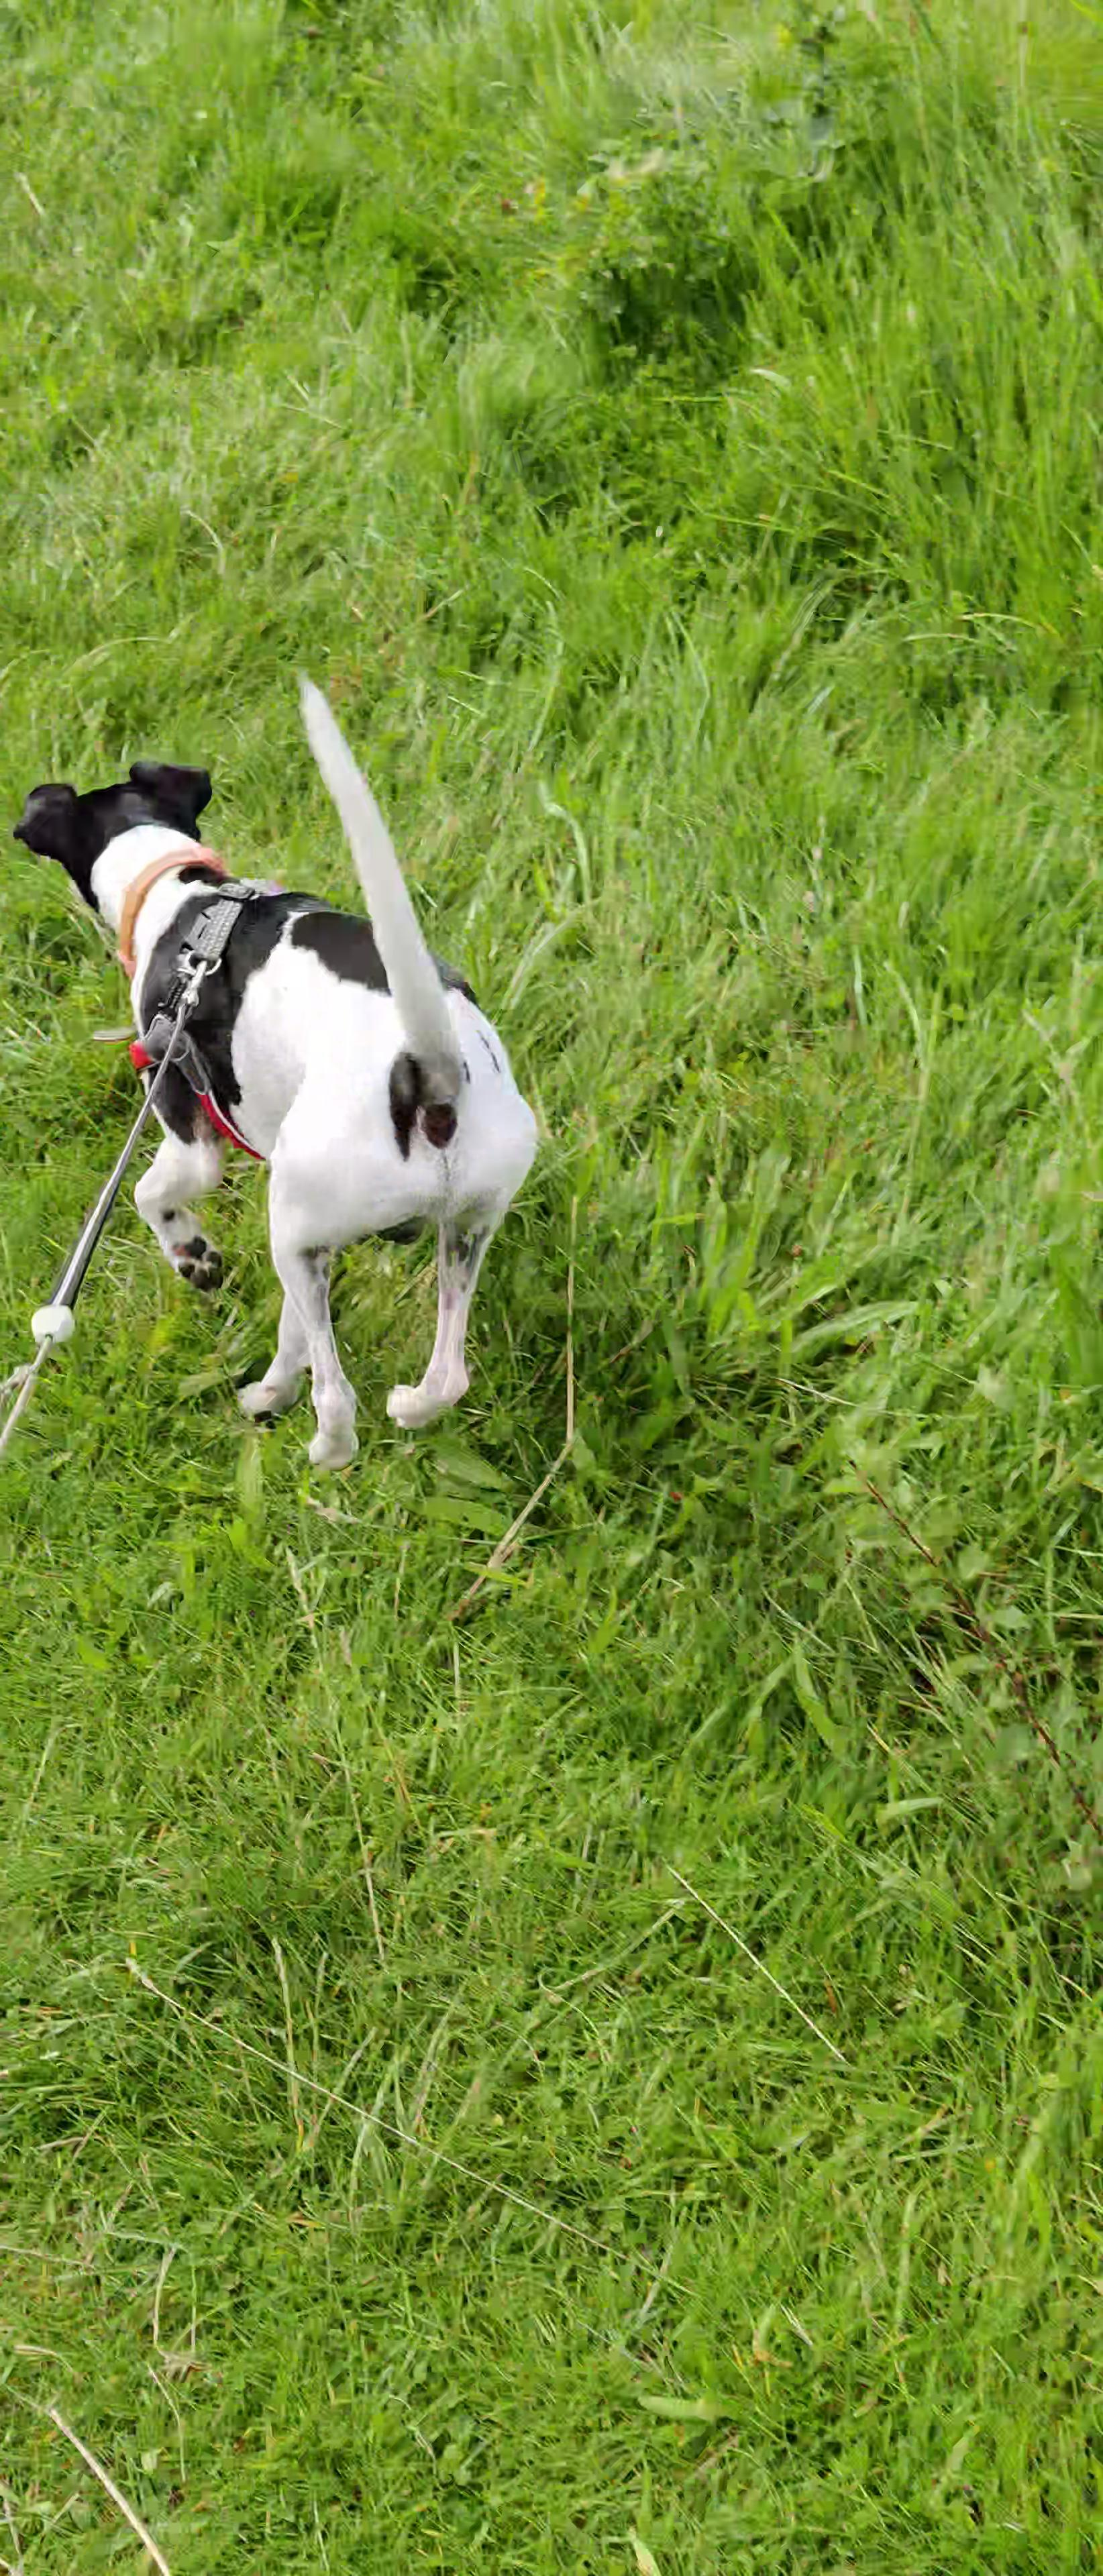Dog: (12, 667, 544, 1470)
